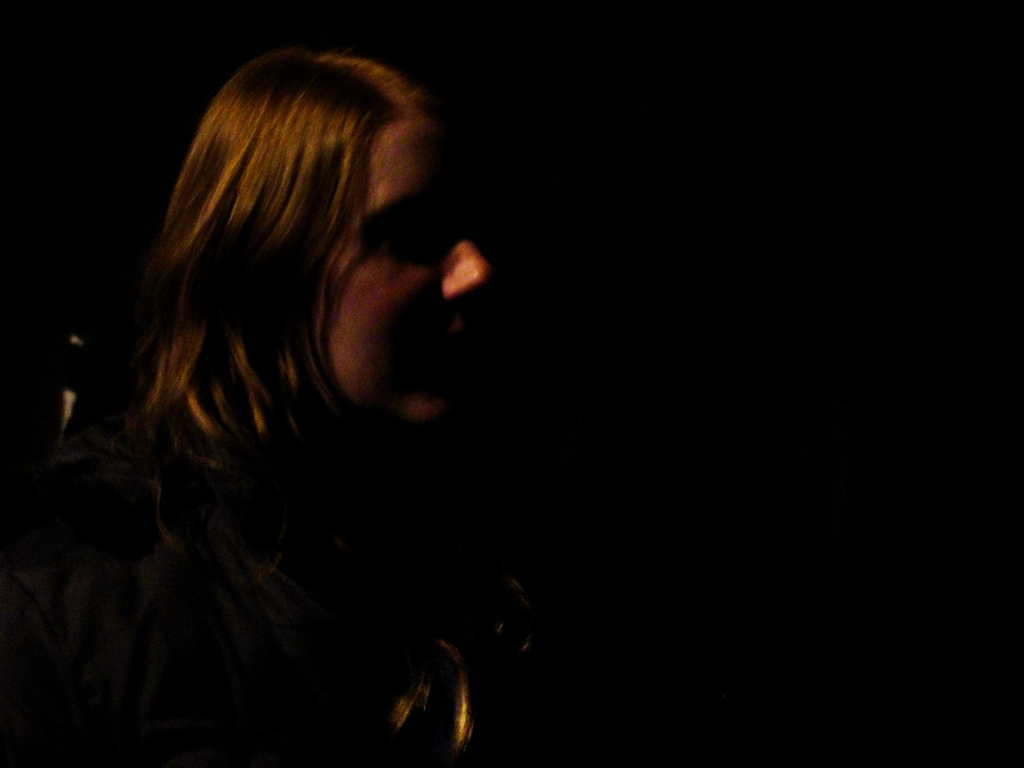Human-face: (310, 117, 495, 433)
